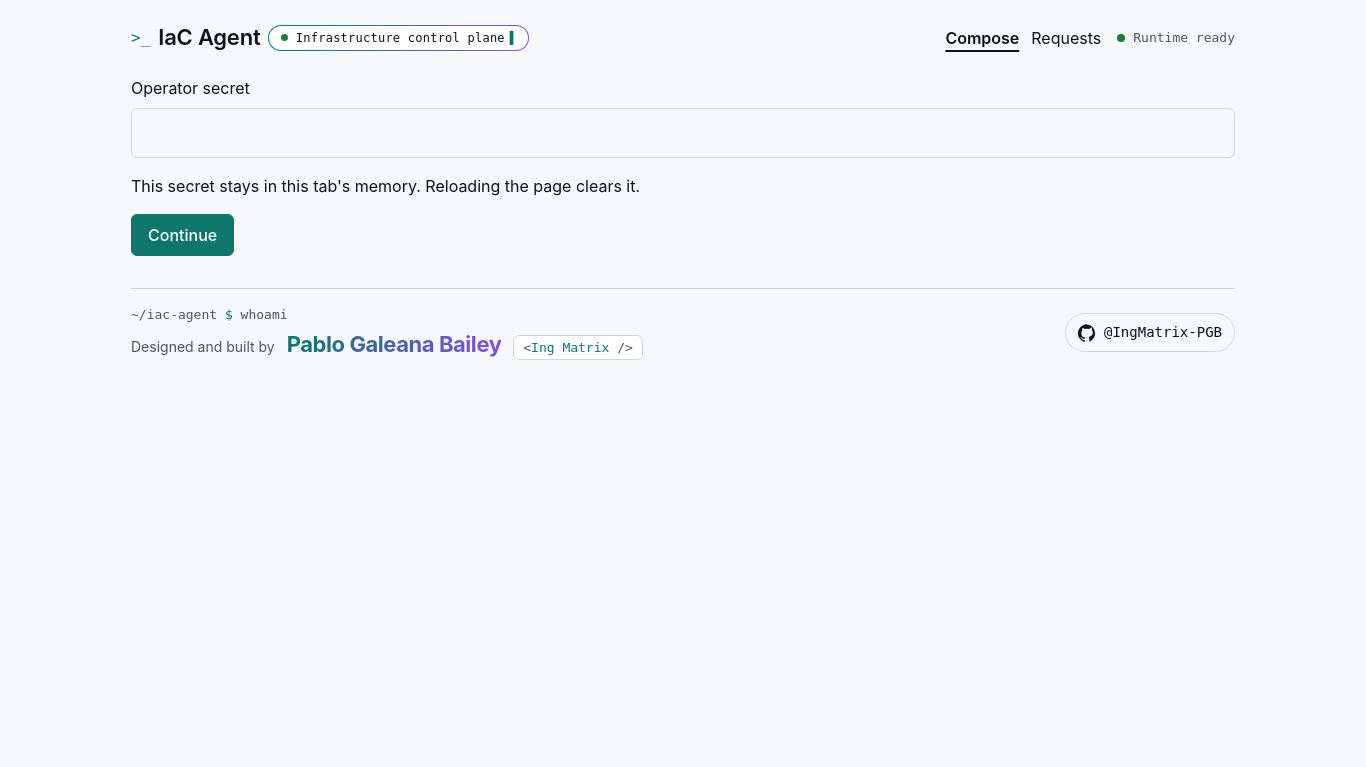
Test: operator shell › does not submit a blank description
Type "test-operator-secret" into the password field labelled "Operator secret". click: (683, 132)
box: [131, 108, 1235, 158]
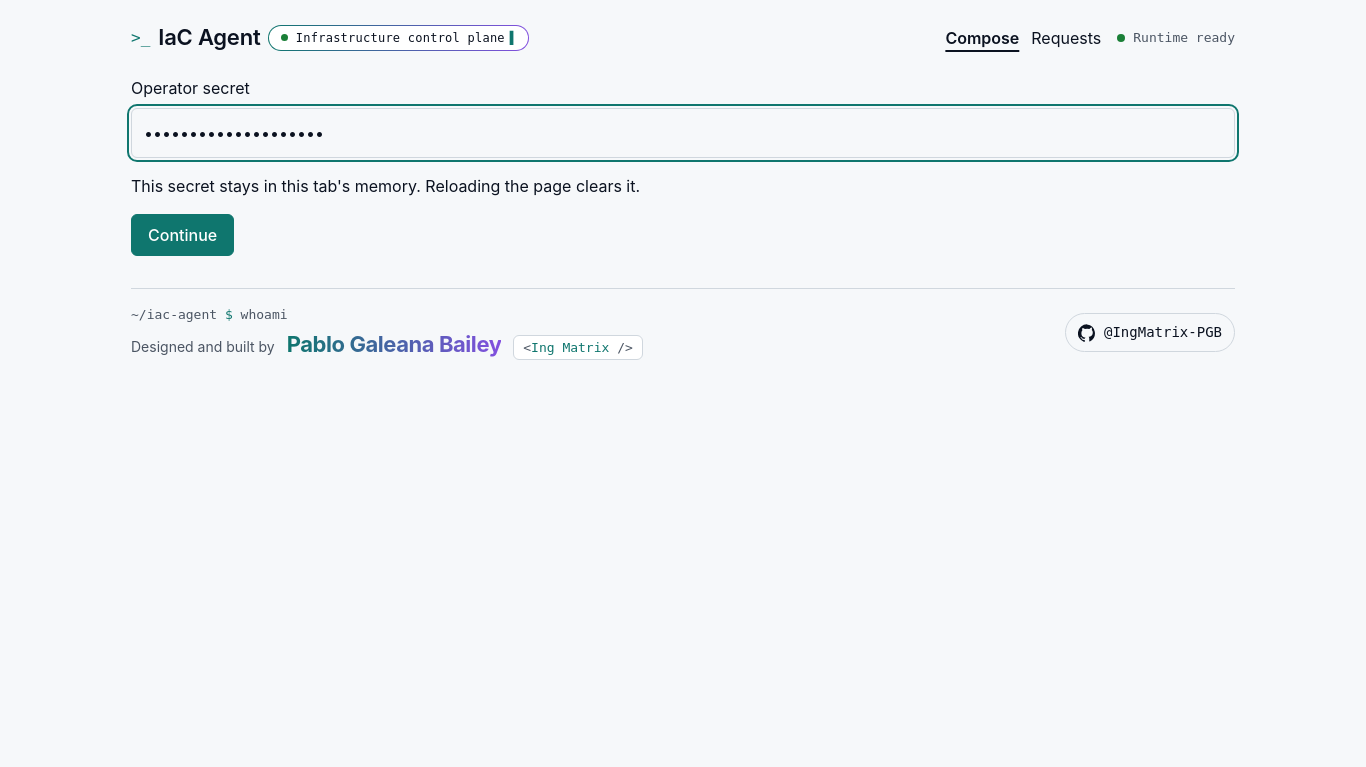
Click the button "Continue". click: (183, 234)
box: [131, 214, 234, 256]
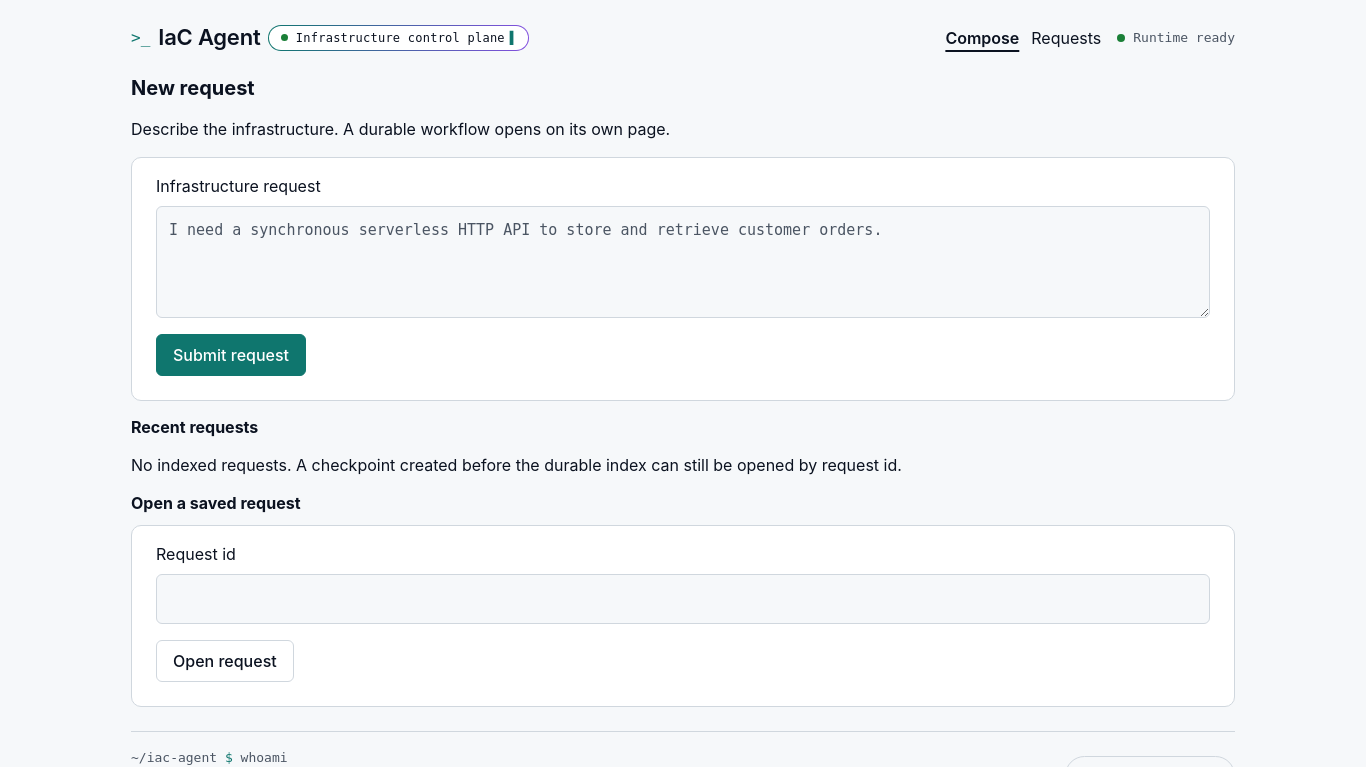
Click the button "Submit request". click: (231, 354)
box: [156, 334, 306, 376]
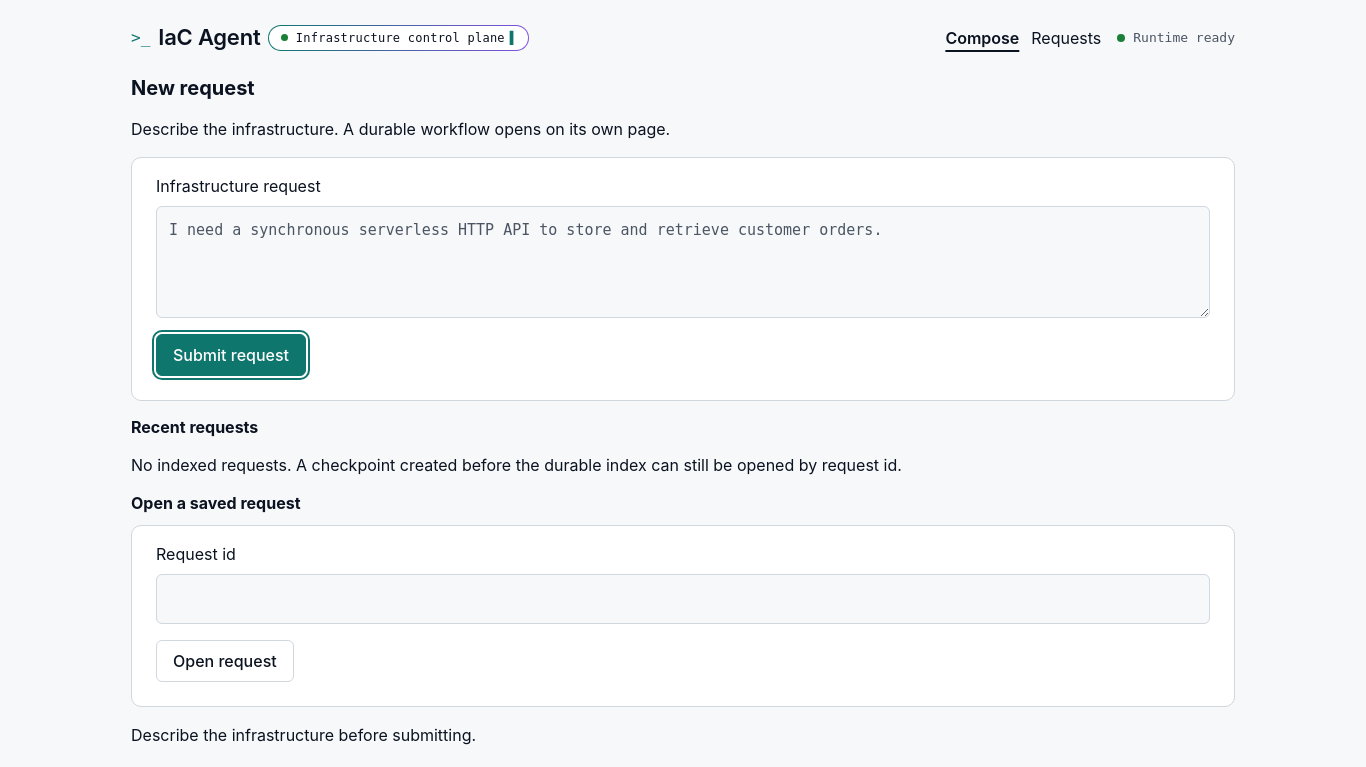
Result: the text "Describe the infrastructure before submitting." is shown at [131, 724, 476, 744]
